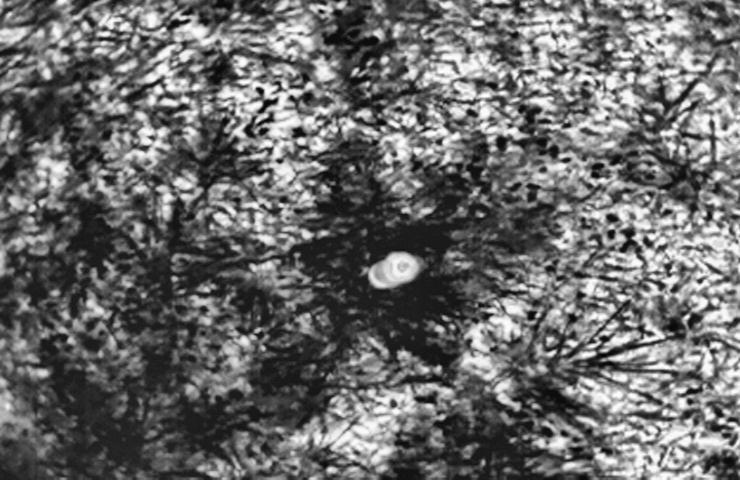landmines: (363, 249, 427, 293)
